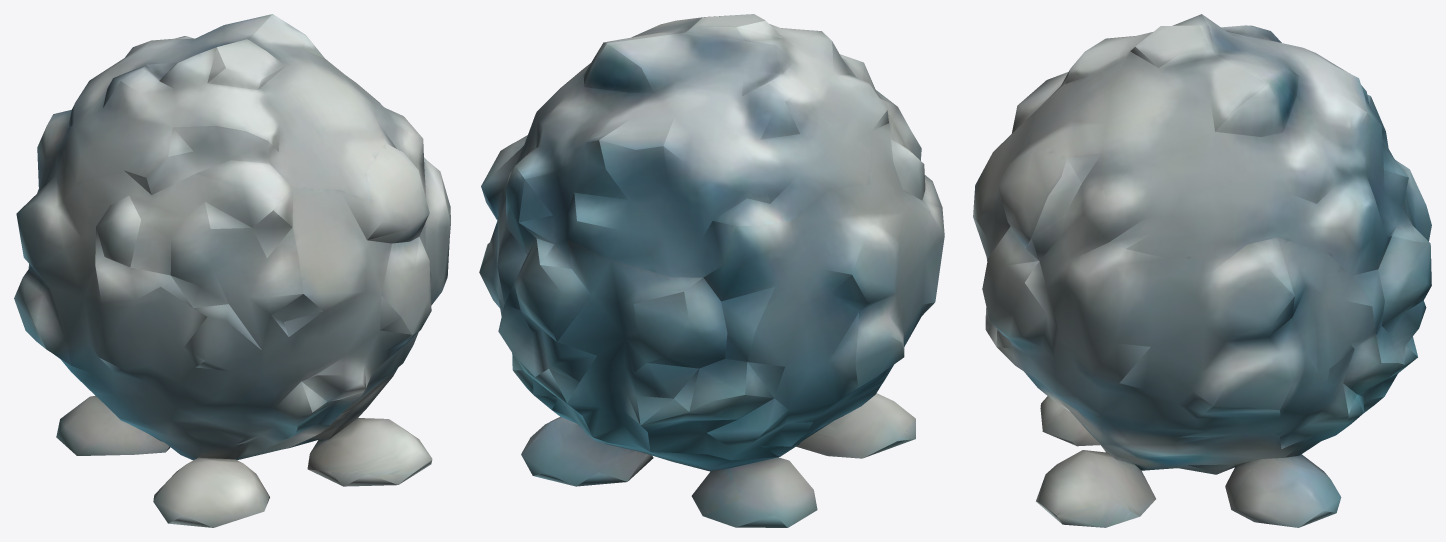
File: m2Snowball.glb
3 renders of one model, left to right at view 1: azimuth 30°, elevation 25°; view 2: azimuth 150°, elevation 25°; view 3: azimuth 270°, elevation 25°, orthographic. The views are drawn at different scales.
Parts seen in each view (by area): view 1: model; view 2: model; view 3: model.
Part boxes in pixels (box(x1,y1,x2,y2)): model: box(14, 14, 450, 527); model: box(479, 14, 944, 527); model: box(973, 14, 1431, 527).
Bounding box in the file's own units: 1.84 × 1.91 × 1.87.
1 material, 1 textured.
